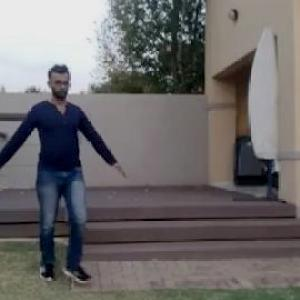land: (0, 62, 129, 284)
